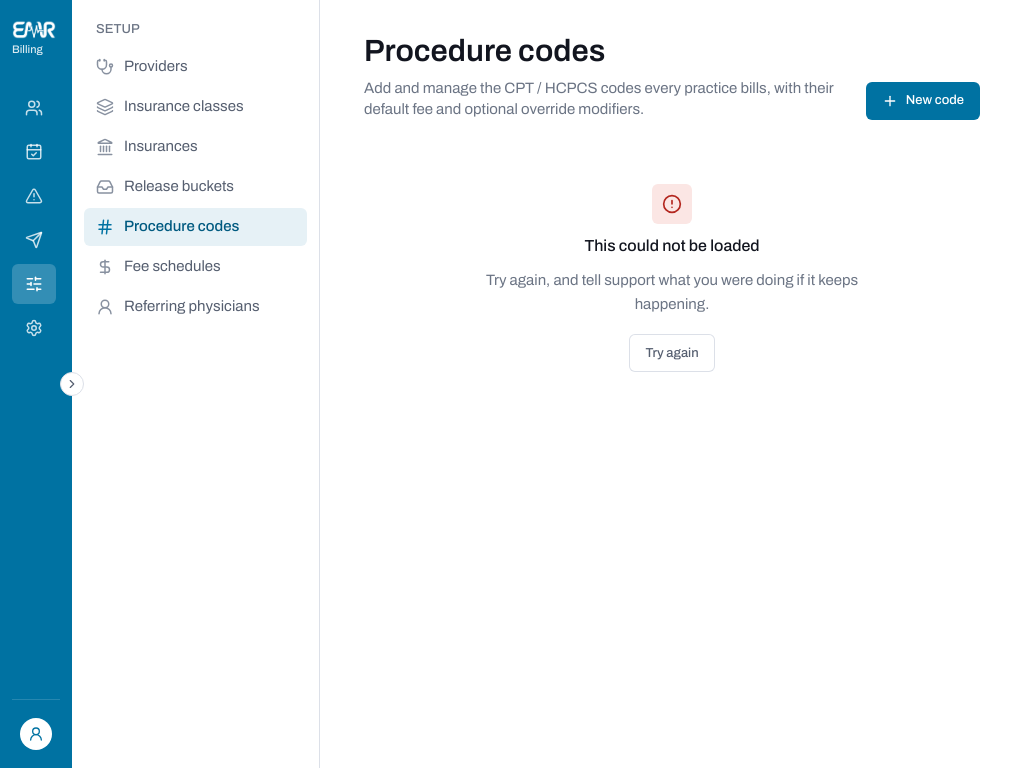
Test: Setup → Procedure codes › shows a failed load with a retry
The image size is (1036, 768).
Click the button "Try again" at (672, 353), box [629,334,715,372]
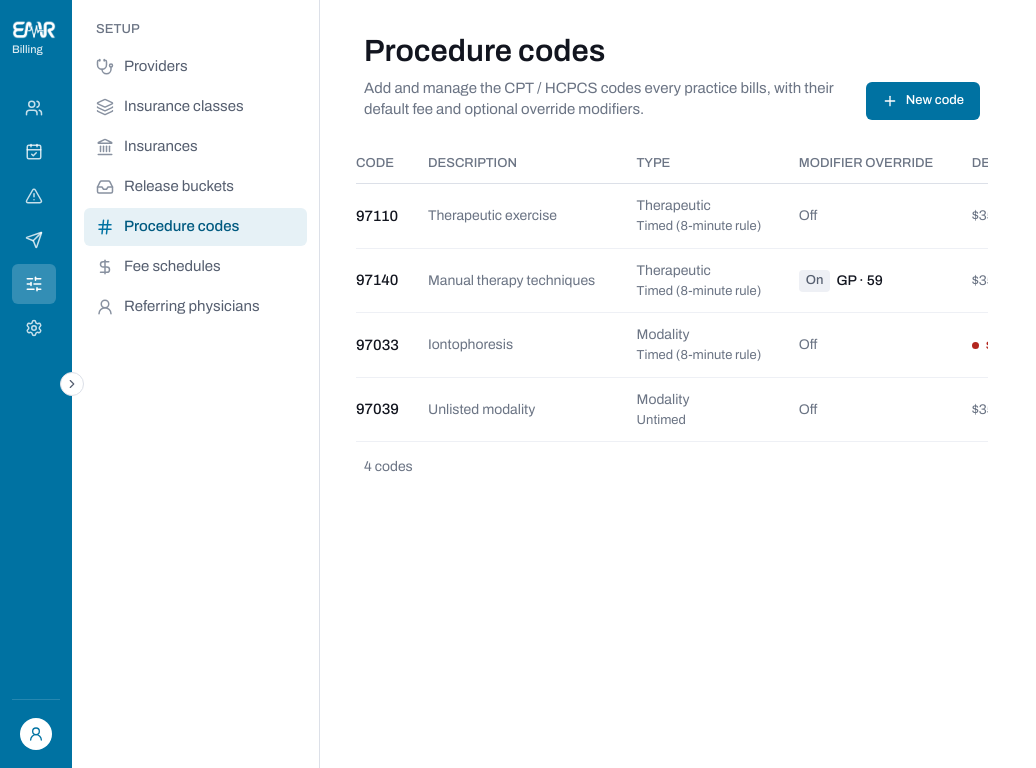
Expected: the row that starts with "Therapeutic exercise" is shown, [356,184,988,248]
